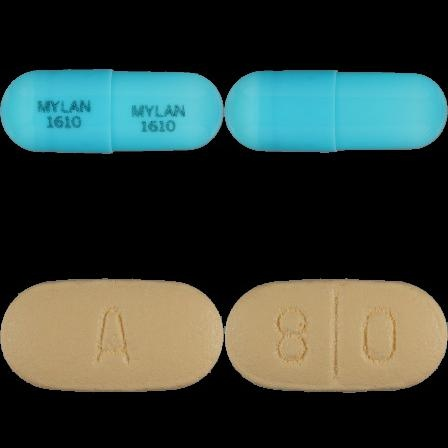53808-0644: (0, 0, 224, 224)
